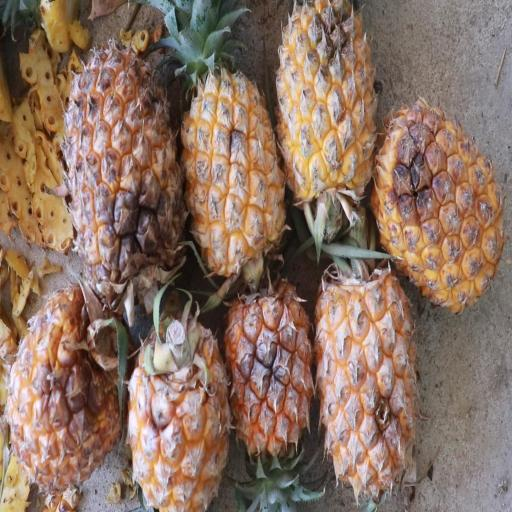Pineapple - v8 v1: (56, 6, 186, 300), (369, 67, 506, 302), (175, 11, 291, 282), (314, 241, 426, 498), (4, 256, 124, 492), (120, 271, 232, 512), (220, 252, 314, 506), (274, 0, 378, 229)
